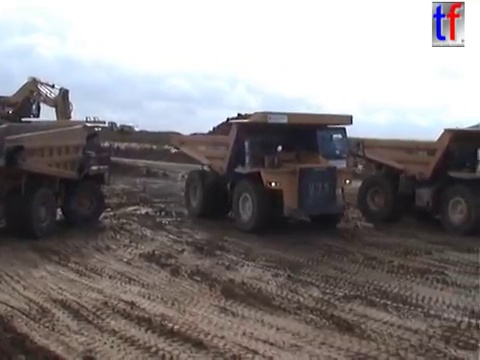excavator: (1, 75, 77, 141)
truck: (165, 109, 368, 231), (330, 126, 480, 238), (1, 116, 115, 240)
